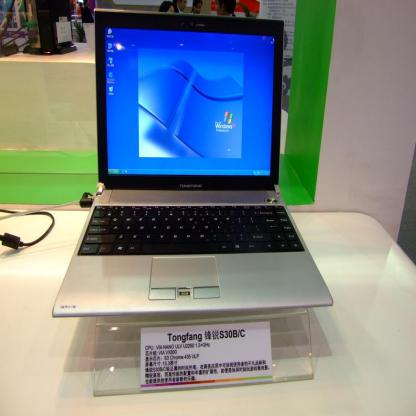board: (66, 19, 325, 316)
